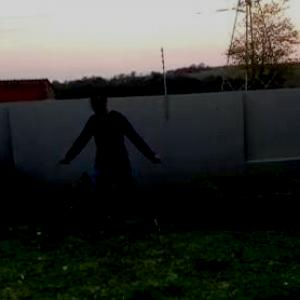land: (54, 74, 168, 242)
